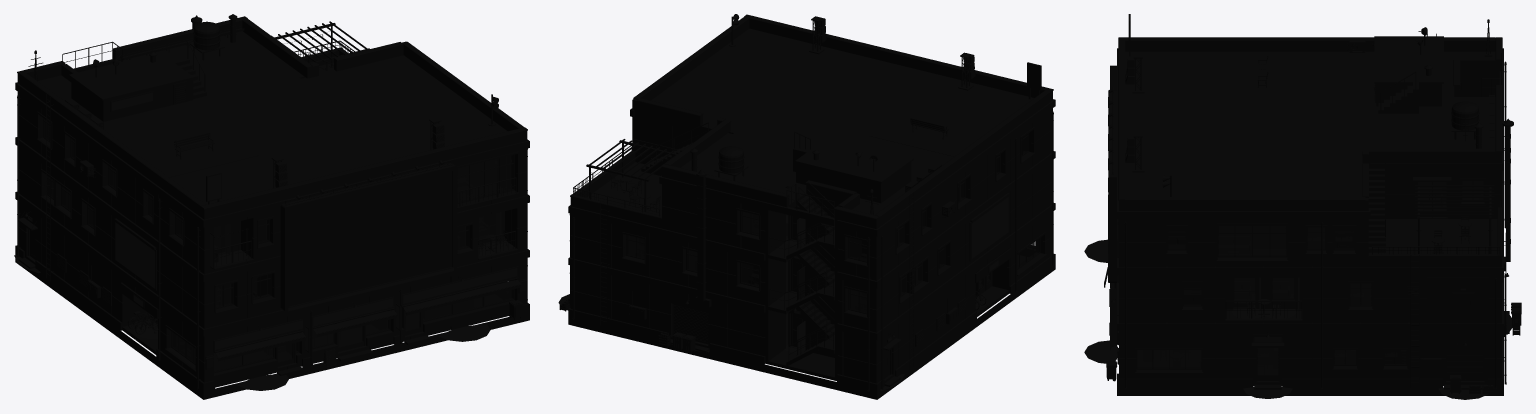
The model's file is loophall-BCSIrV9o.glb.
3 renders of one model, left to right at view 1: azimuth 30°, elevation 25°; view 2: azimuth 150°, elevation 25°; view 3: azimuth 270°, elevation 25°, orthographic. The views are drawn at different scales.
Visible parts, largest first — view 1: body, glow, glass, pool; view 2: body, glow, glass; view 3: body, glass, glow, pool.
Part boxes in pixels (x1,y1,x2,y2): body: (15,14,529,399); glow: (28,35,527,370); glass: (44,119,525,371); pool: (14,240,513,390); body: (559,14,1055,399); glow: (598,152,1028,354); glass: (627,134,1039,312); body: (1104,14,1521,395); glass: (1137,181,1483,375); glow: (1110,19,1507,375); pool: (1084,239,1512,399).
Bounding box in the file's own units: 22.06 × 12.9 × 22.62.
Materials: 4 (4 with a texture image).
